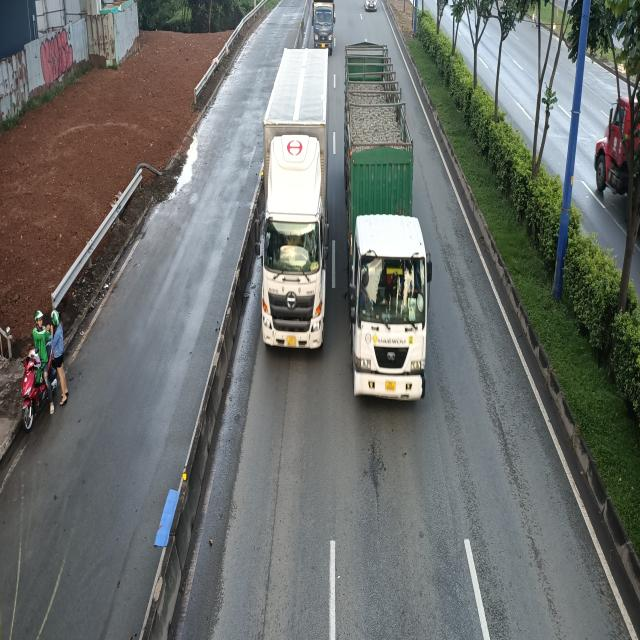container: (344, 37, 436, 401)
truck: (256, 41, 334, 350), (311, 0, 336, 50)
